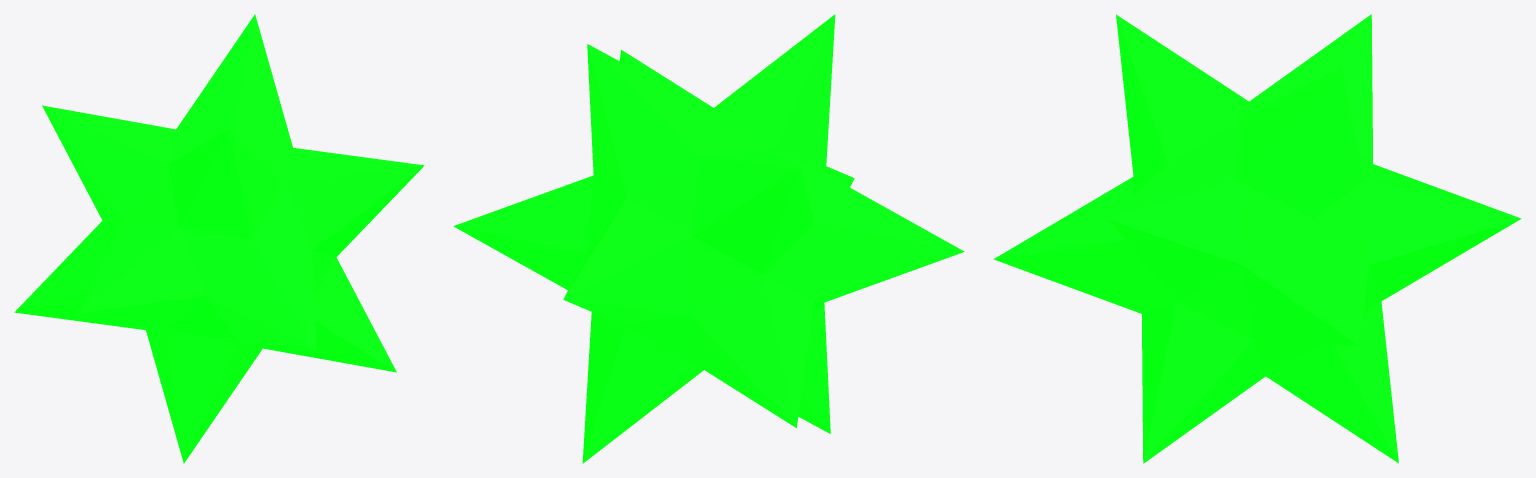
File: EstrellaEXP.fbx
3 views of the same model, side by side, from view 1: azimuth 30°, elevation 25°; view 2: azimuth 150°, elevation 25°; view 3: azimuth 270°, elevation 25° (orthographic). The views are drawn at different scales.
Parts seen in each view (by area): view 1: bola xp.004; view 2: bola xp.004; view 3: bola xp.004.
Part boxes in pixels (<box>): bola xp.004: <box>14,14,424,463</box>; bola xp.004: <box>453,14,964,463</box>; bola xp.004: <box>993,14,1521,463</box>.
Bounding box in the file's own units: 15.82 × 14.99 × 16.91.
